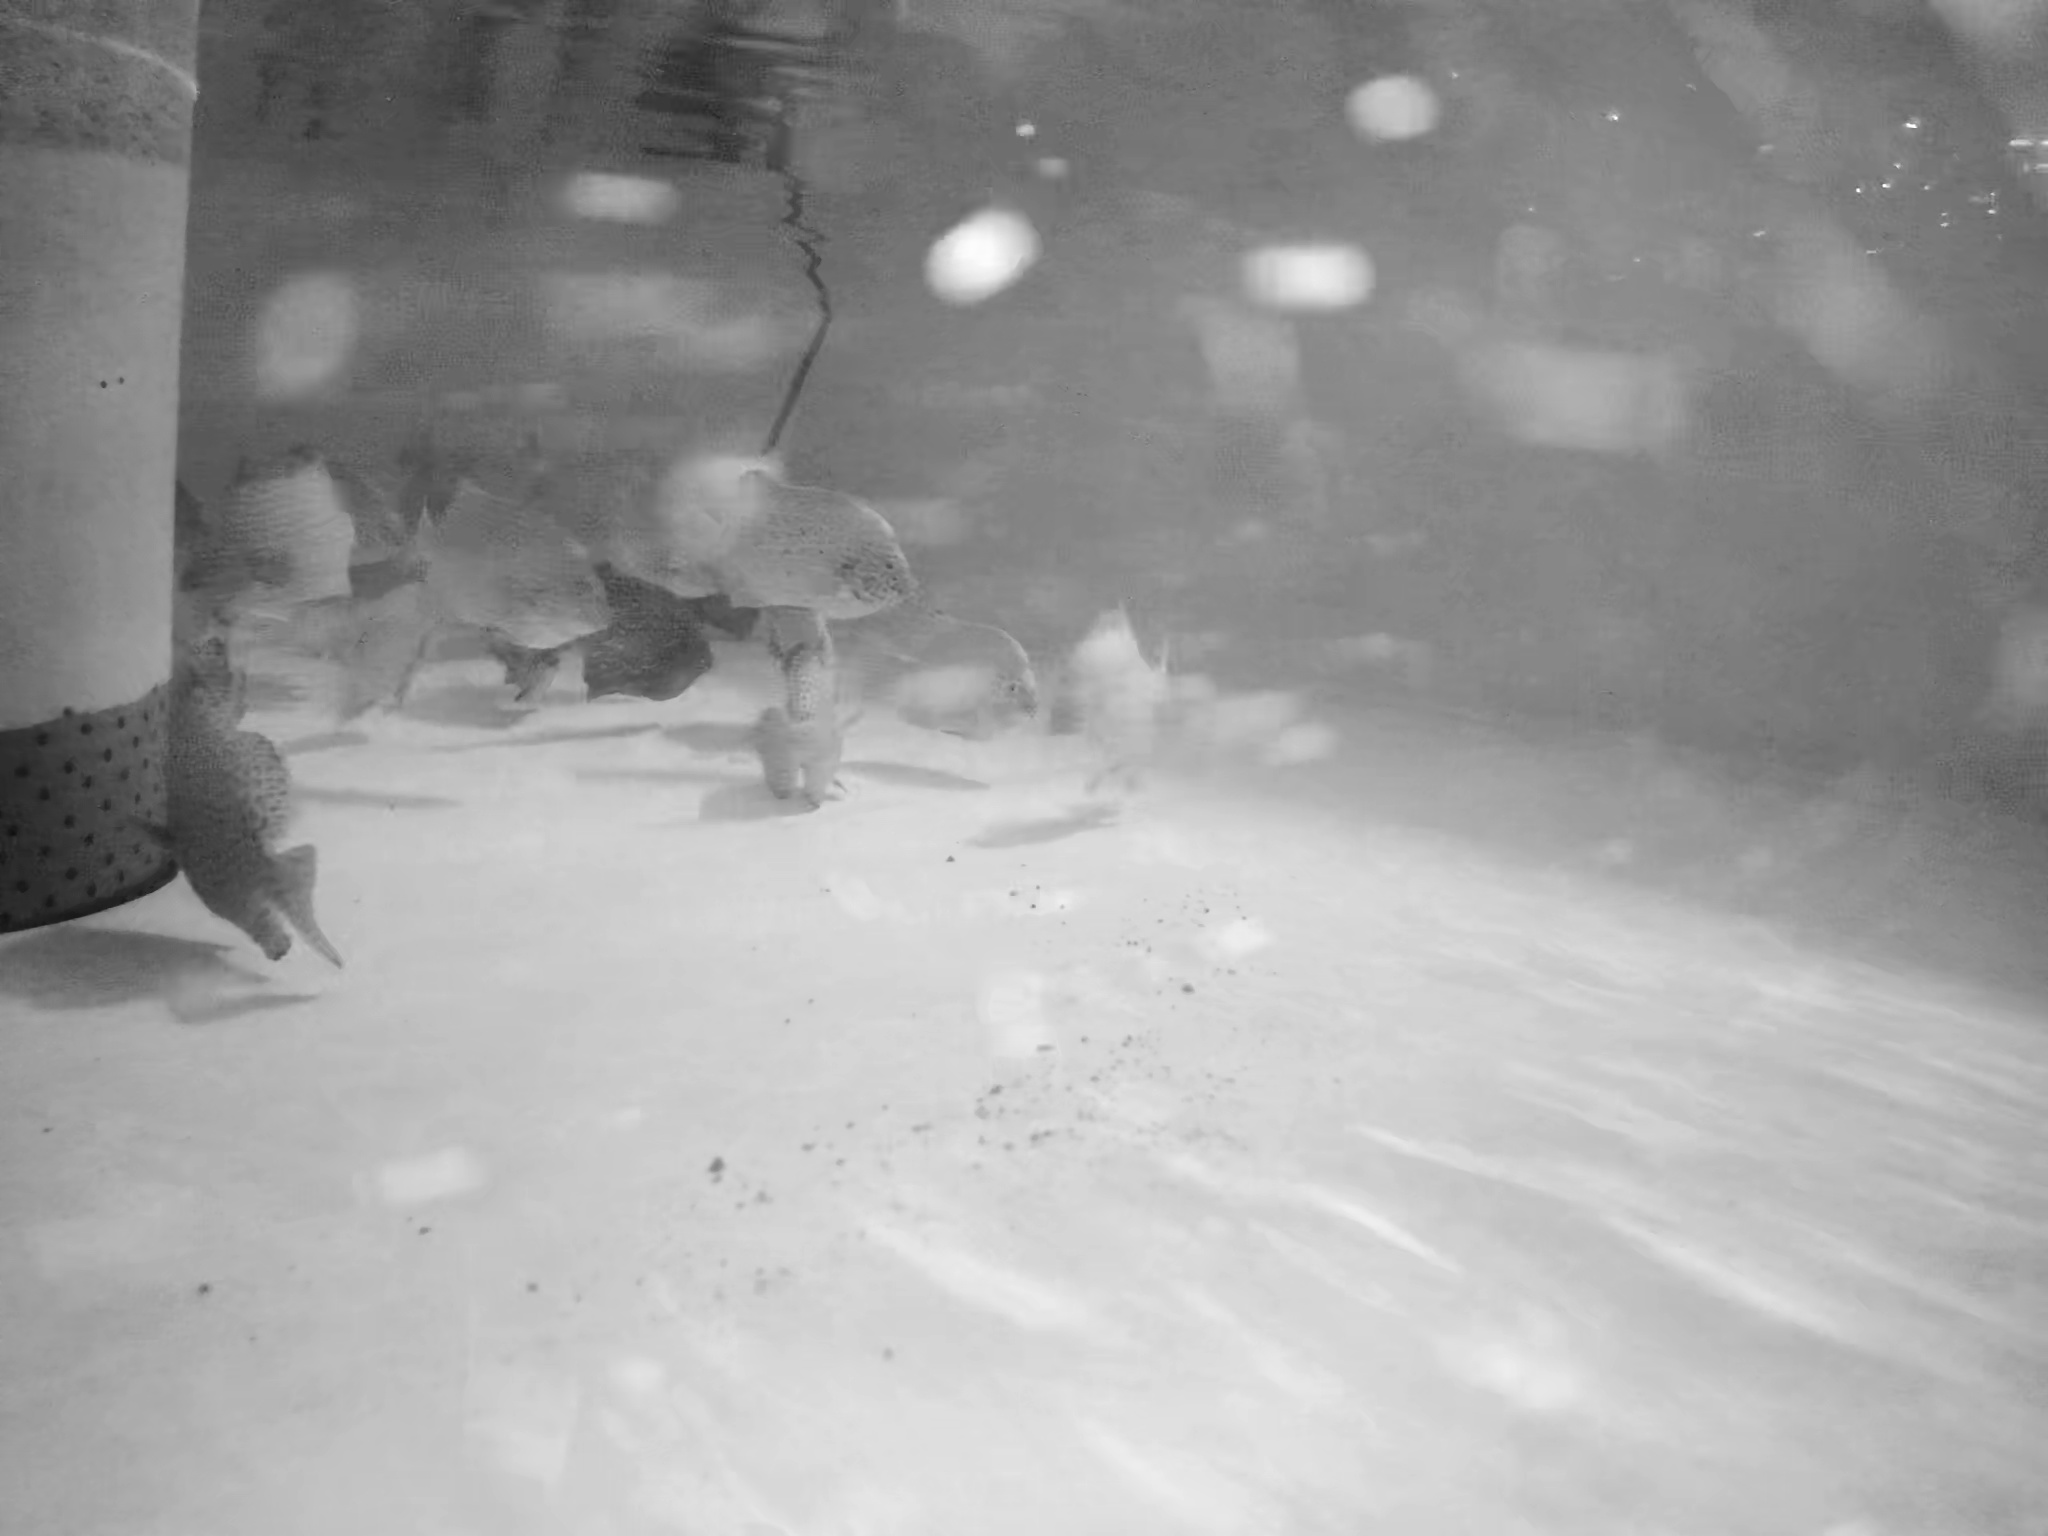fish: (164, 694, 373, 1004), (676, 486, 959, 632), (389, 473, 619, 645), (160, 473, 376, 628), (1059, 616, 1218, 787), (880, 600, 1039, 753), (584, 544, 710, 736), (751, 657, 858, 815), (487, 563, 585, 729)
